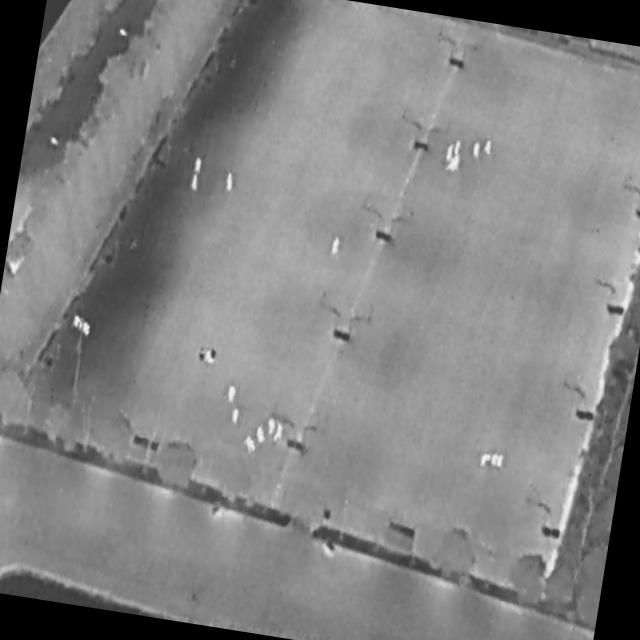person: (275, 422, 286, 445), (226, 171, 236, 193), (332, 237, 343, 256), (446, 144, 456, 164), (244, 437, 254, 455), (473, 142, 483, 159), (484, 140, 494, 156), (195, 159, 204, 176), (191, 174, 200, 191), (229, 387, 238, 404), (268, 418, 277, 435), (232, 409, 241, 425), (455, 142, 463, 159), (448, 157, 456, 172), (258, 432, 267, 445), (455, 155, 462, 171), (257, 427, 264, 438)
